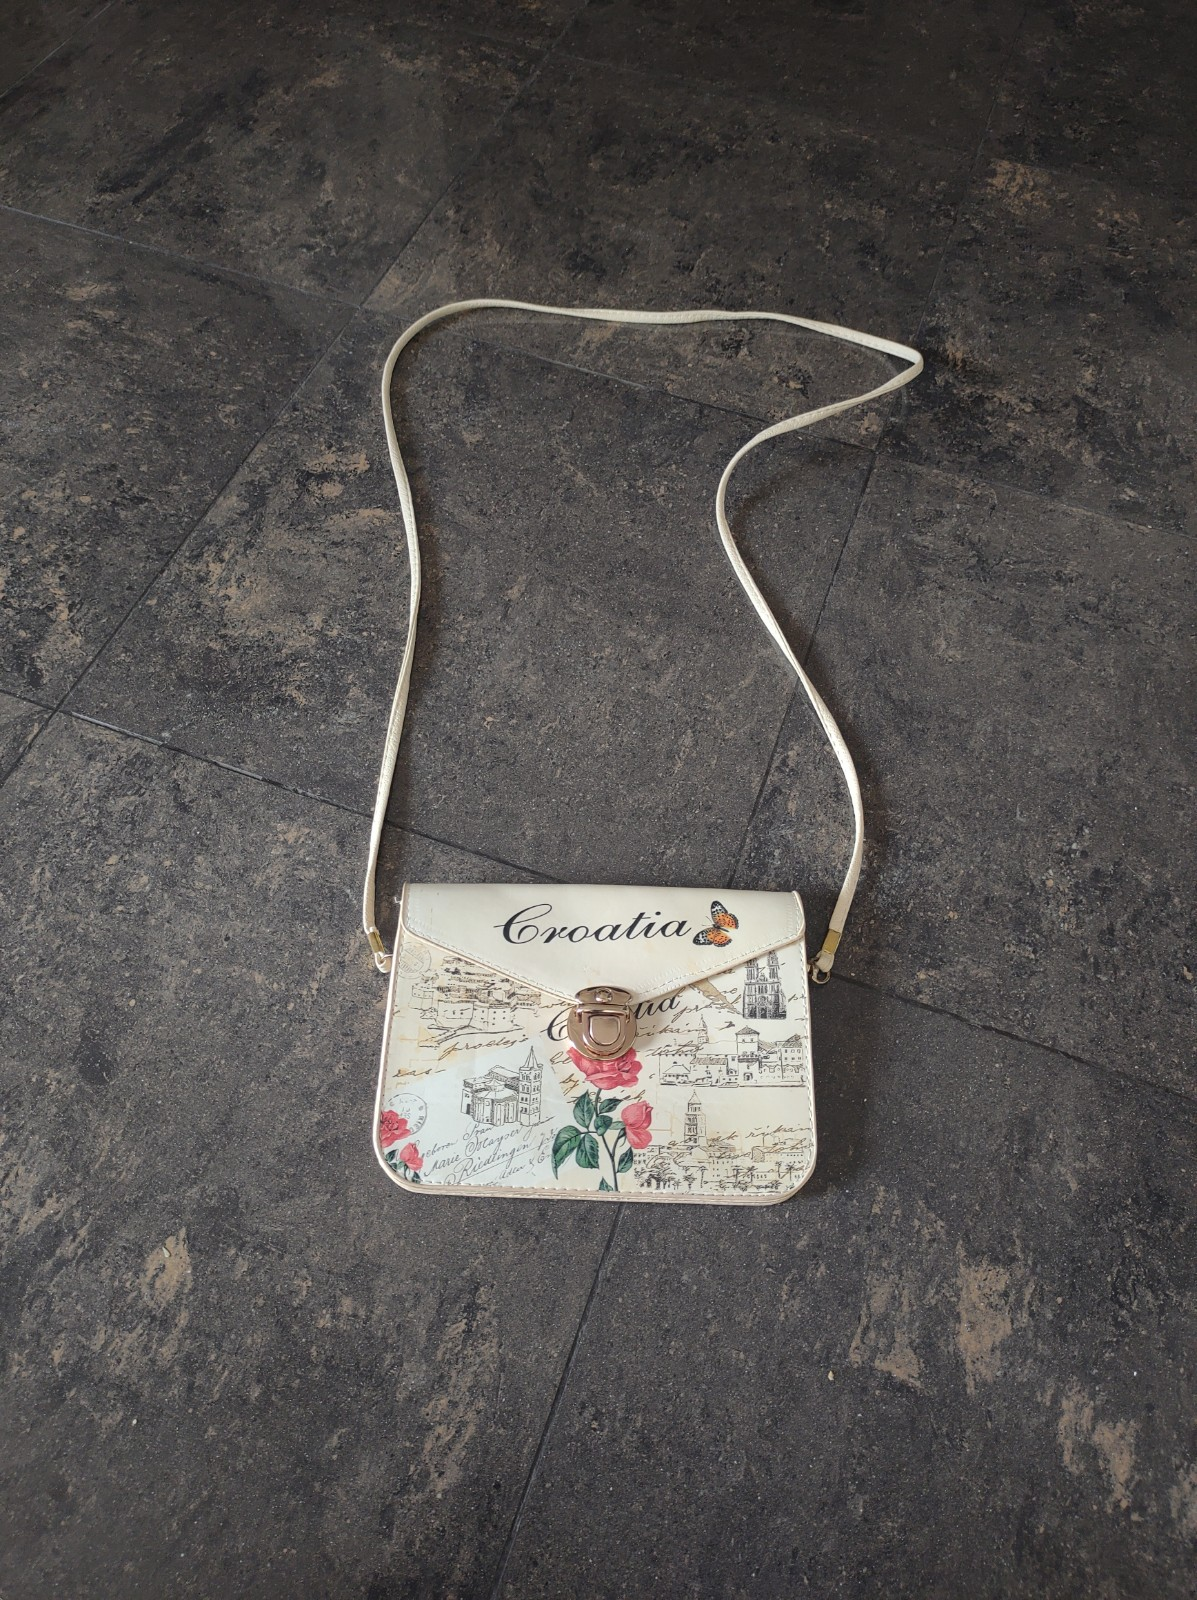cartera: (289, 605, 963, 1307)
cuero: (372, 868, 837, 1207)
